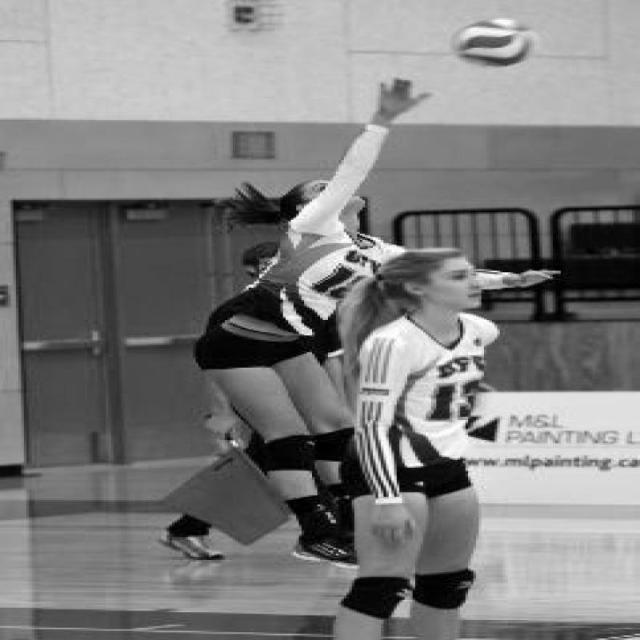volleyball: (447, 15, 537, 70)
